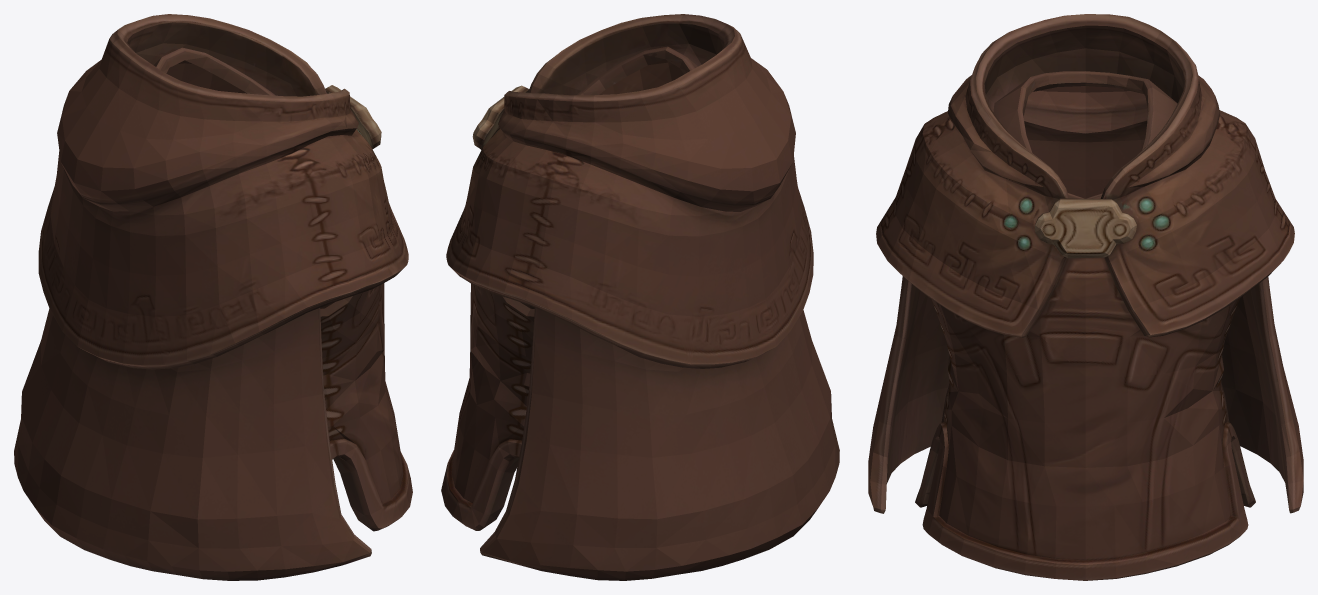
Rendered from hooded+leather+cloak+3d+model.glb.
3 views of the same model, side by side, from view 1: azimuth 30°, elevation 25°; view 2: azimuth 150°, elevation 25°; view 3: azimuth 270°, elevation 25° (orthographic). The views are drawn at different scales.
Parts seen in each view (by area): view 1: tripo_node_a6e2eba9-a87a-44ba-aeee-2be40d06d613; view 2: tripo_node_a6e2eba9-a87a-44ba-aeee-2be40d06d613; view 3: tripo_node_a6e2eba9-a87a-44ba-aeee-2be40d06d613.
Boxes of the visible parts, left/top/right/bottom form: tripo_node_a6e2eba9-a87a-44ba-aeee-2be40d06d613: left=14, top=14, right=412, bottom=580; tripo_node_a6e2eba9-a87a-44ba-aeee-2be40d06d613: left=441, top=14, right=839, bottom=580; tripo_node_a6e2eba9-a87a-44ba-aeee-2be40d06d613: left=868, top=14, right=1303, bottom=580.
Bounding box in the file's own units: 0.7676 × 0.998 × 0.877.
Materials: 1 (1 with a texture image).
